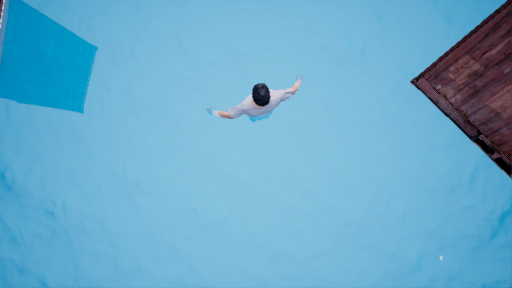person: (213, 80, 311, 125)
